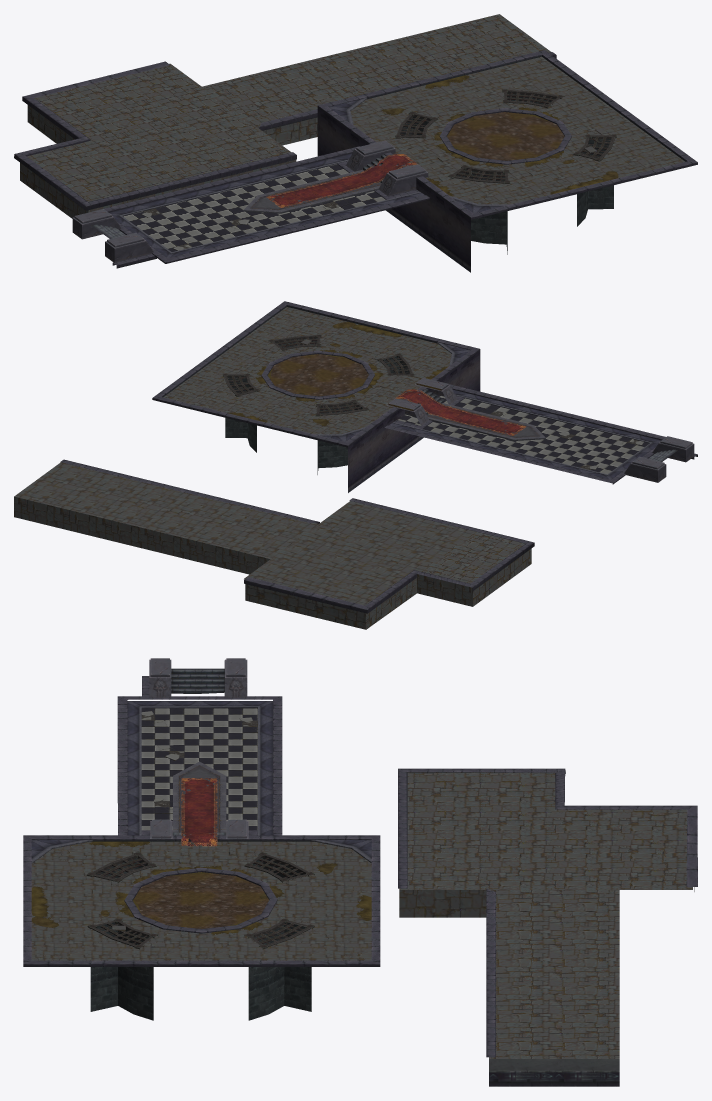
The model's file is terrain_section02_guanka12a.FBX.
The picture shows the model from 3 angles, top to bottom: view 1: azimuth 30°, elevation 25°; view 2: azimuth 150°, elevation 25°; view 3: azimuth 270°, elevation 25°; orthographic projection. The views are drawn at different scales.
Visible parts, largest first — view 1: terrain_section02_guanka12a; view 2: terrain_section02_guanka12a; view 3: terrain_section02_guanka12a.
Part boxes in pixels (<box>): terrain_section02_guanka12a: <box>14,14,697,272</box>; terrain_section02_guanka12a: <box>14,301,697,629</box>; terrain_section02_guanka12a: <box>23,658,697,1086</box>.
Bounding box in the file's own units: 10344 × 8952 × 1384.
